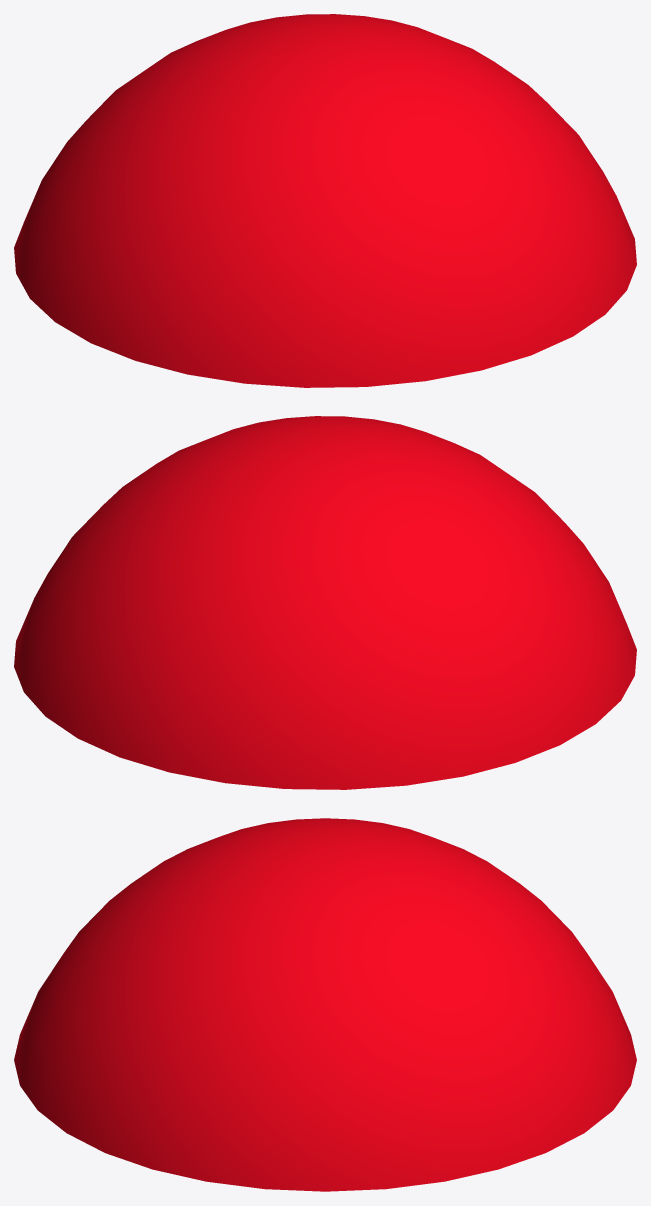
File: marker_dome_pop.glb
The picture shows the model from 3 angles, top to bottom: view 1: azimuth 30°, elevation 25°; view 2: azimuth 150°, elevation 25°; view 3: azimuth 270°, elevation 25°; orthographic projection.
Parts seen in each view (by area): view 1: dome; view 2: dome; view 3: dome.
Boxes of the visible parts, left/top/right/bottom form: dome: left=14, top=14, right=636, bottom=387; dome: left=14, top=416, right=636, bottom=789; dome: left=14, top=818, right=636, bottom=1191.
Size of the model in its own units: 1 by 0.375 by 1.
